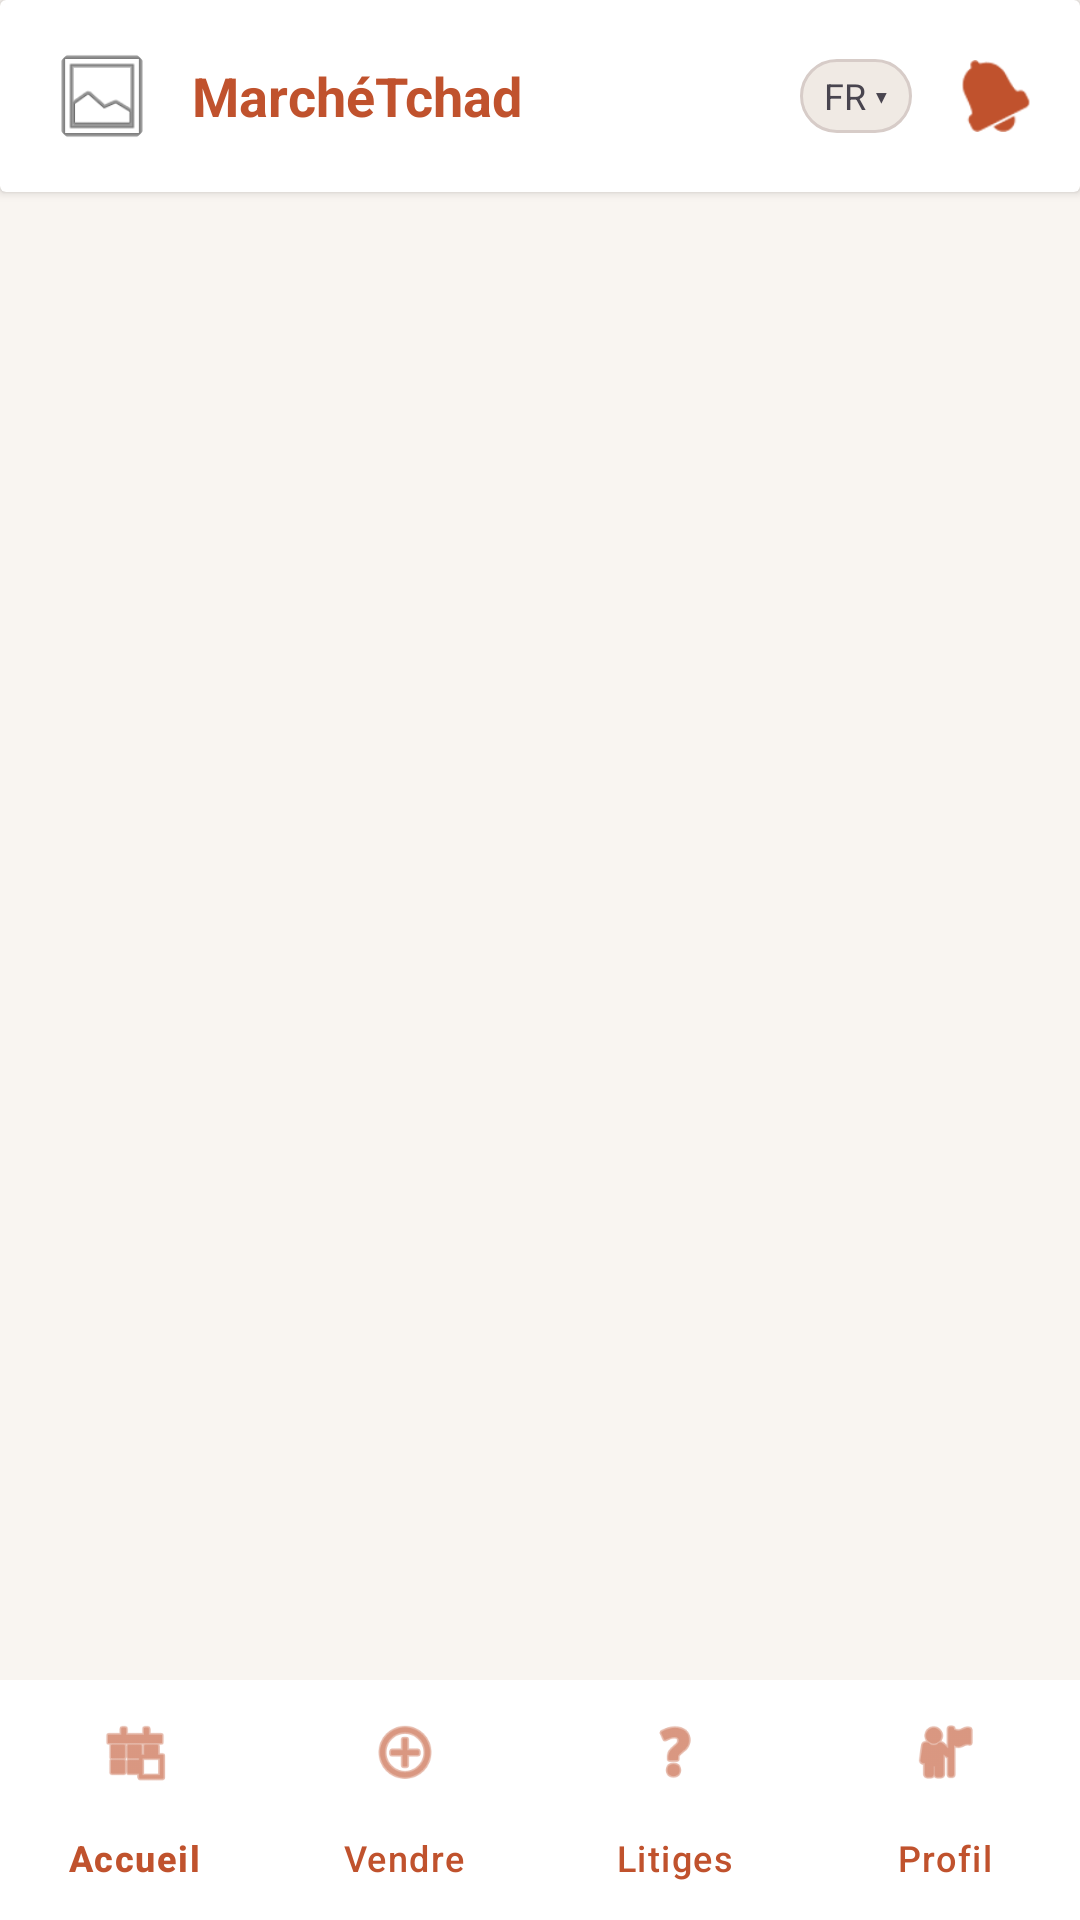

Icon click points for this 1080w x 1920h phone screenshot, format (x,y):
gallery: (102,96)
popup reminder: (996,96)
